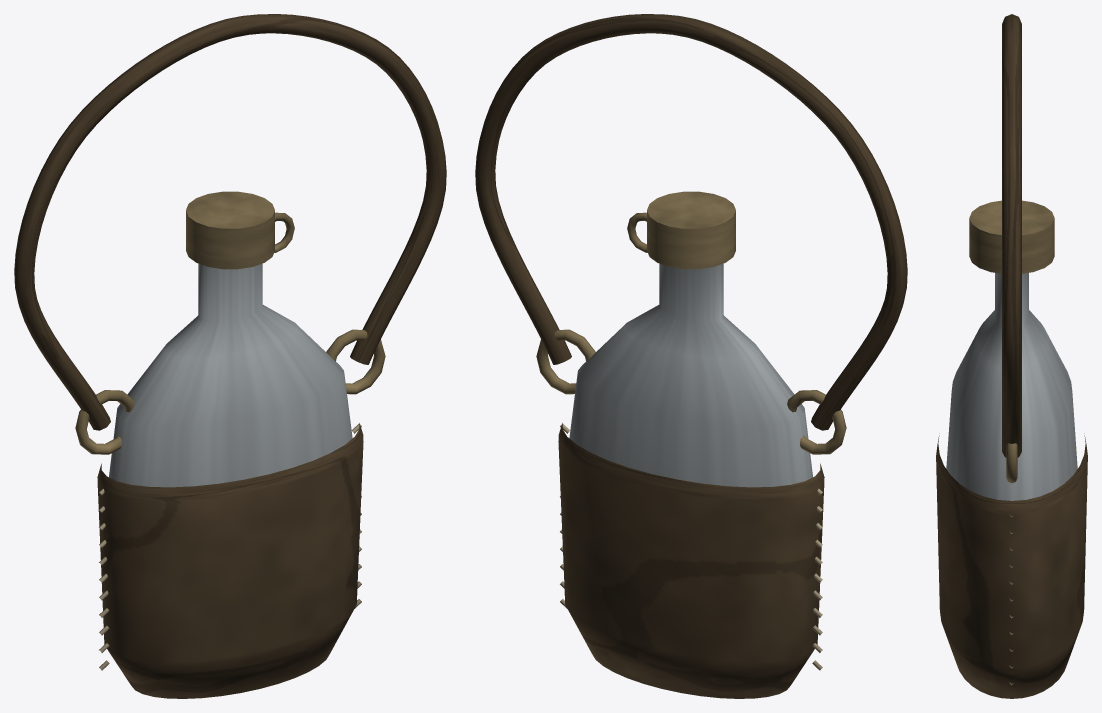
3 views of the same model, side by side, from view 1: azimuth 30°, elevation 25°; view 2: azimuth 150°, elevation 25°; view 3: azimuth 270°, elevation 25° (orthographic). The views are drawn at different scales.
Visible parts, largest first — view 1: waxed leather, machined steel, oiled dark leather, aged brass fittings; view 2: waxed leather, machined steel, oiled dark leather, aged brass fittings, linen thread; view 3: waxed leather, machined steel, oiled dark leather, aged brass fittings.
Part boxes in pixels (x1,y1,x2,y2): waxed leather: (97,423,363,698); machined steel: (109,263,352,487); oiled dark leather: (14,14,446,430); aged brass fittings: (75,191,385,454); waxed leather: (558,423,824,698); machined steel: (569,263,812,487); oiled dark leather: (475,14,907,430); aged brass fittings: (536,191,846,454); linen thread: (560,423,822,670); waxed leather: (936,433,1087,698); machined steel: (946,273,1077,500); oiled dark leather: (1002,14,1021,457); aged brass fittings: (969,200,1054,483).
Size of the model in its own units: 0.3341 by 0.481 by 0.1069.
Materials: 5 (5 with a texture image).
